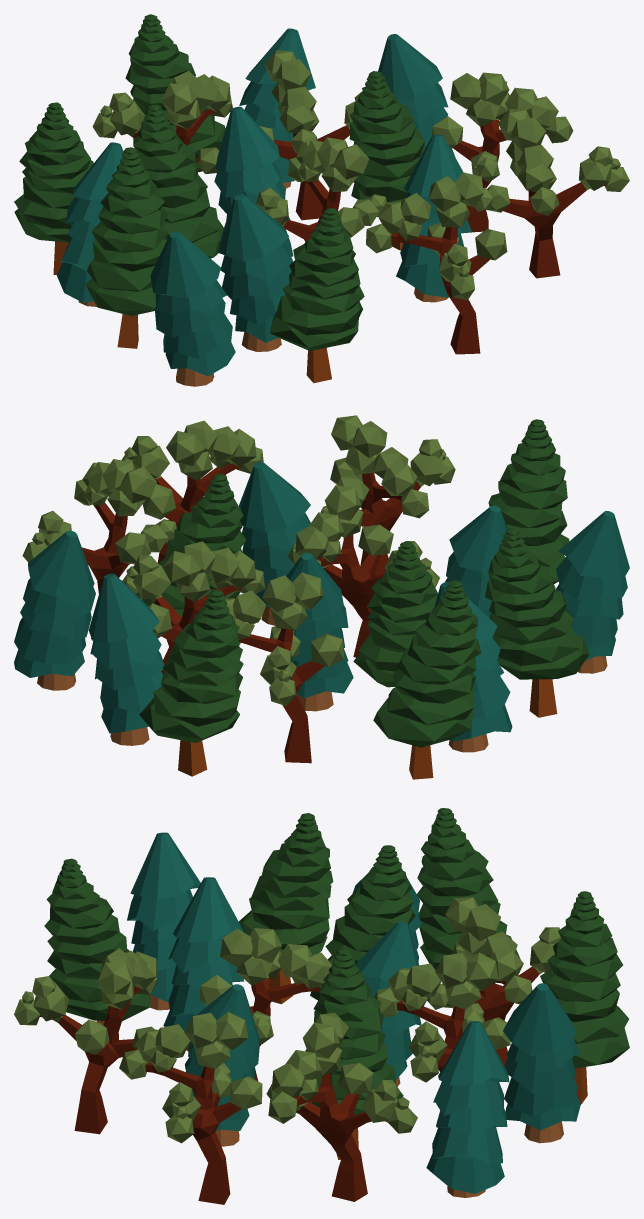
3 views of the same model, one above another, from view 1: azimuth 30°, elevation 25°; view 2: azimuth 150°, elevation 25°; view 3: azimuth 270°, elevation 25° (orthographic). The views are drawn at different scales.
Visible parts, largest first — view 1: Cube.002, Cube.001, Icosphere.003, Cylinder.001, Icosphere.001, Cylinder.004, Cube.003, Icosphere.004, Cube.005, Cube.006, Icosphere.013, Icosphere.005 (+7 smaller); view 2: Cube.003, Cube.002, Cube.004, Cylinder.005, Cylinder.002, Icosphere.005, Icosphere.003, Icosphere.004, Cylinder.001, Icosphere.013, Cube.001, Icosphere.001 (+7 smaller); view 3: Icosphere.001, Icosphere.004, Cylinder.005, Cube.004, Cylinder.002, Icosphere.003, Icosphere.002, Cube.001, Cube.002, Cube.003, Cylinder.001, Icosphere.005 (+6 smaller).
Part boxes in pixels (x1,y1,x2,y2): Cube.002: (85, 147, 168, 348); Cube.001: (270, 208, 364, 383); Icosphere.003: (366, 172, 507, 354); Cylinder.001: (150, 231, 235, 386); Icosphere.001: (474, 109, 629, 278); Cylinder.004: (218, 194, 293, 351); Cube.003: (14, 102, 93, 274); Icosphere.004: (432, 72, 573, 232); Cube.005: (349, 71, 424, 250); Cube.006: (133, 104, 223, 258); Icosphere.013: (256, 137, 386, 241); Icosphere.005: (92, 71, 232, 173); Cube.003: (373, 580, 481, 779); Cube.002: (485, 528, 589, 717); Cube.004: (139, 589, 243, 776); Cylinder.005: (14, 530, 95, 690); Cylinder.002: (88, 573, 164, 745); Icosphere.005: (224, 572, 344, 763); Icosphere.003: (320, 415, 455, 576); Icosphere.004: (22, 459, 176, 639); Cylinder.001: (555, 511, 629, 673); Icosphere.013: (288, 475, 439, 657); Cube.001: (488, 419, 569, 583); Icosphere.001: (121, 420, 263, 563); Icosphere.001: (119, 1012, 262, 1204); Icosphere.004: (266, 1012, 417, 1201); Cylinder.005: (426, 1021, 509, 1197); Cube.004: (540, 891, 629, 1104); Cylinder.002: (503, 983, 580, 1143); Icosphere.003: (14, 948, 161, 1134); Icosphere.002: (374, 952, 510, 1082); Cube.001: (44, 858, 150, 1025); Cube.002: (239, 813, 333, 1004); Cube.003: (417, 808, 520, 1010); Cylinder.001: (127, 832, 200, 1010); Icosphere.005: (427, 897, 561, 1066).
Size of the model in its own units: 1.69 by 0.6066 by 1.76.
